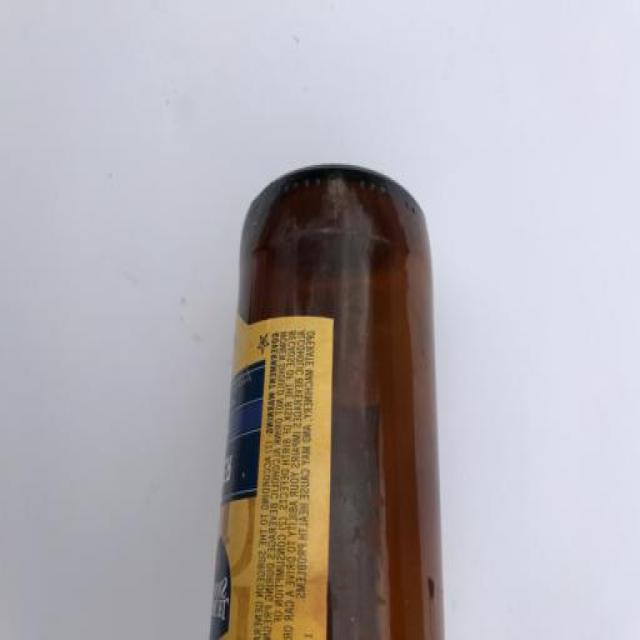glass: (208, 161, 447, 640)
